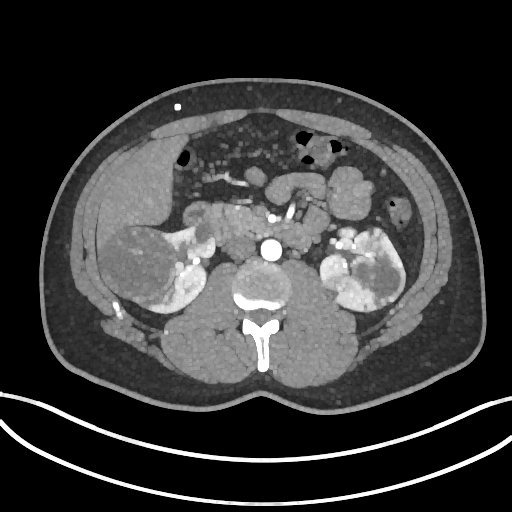Lesion: (93, 222, 180, 306)
